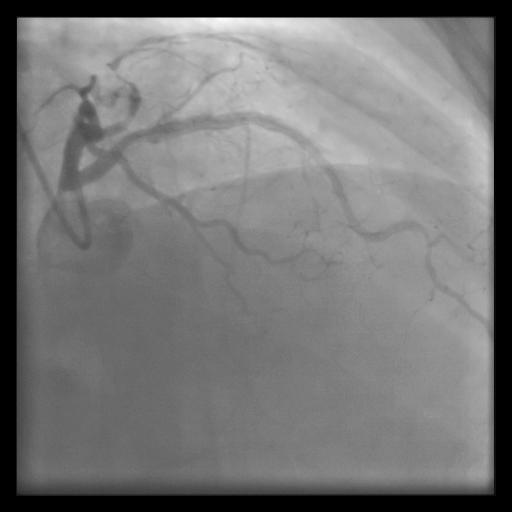Stenosis: (117, 127, 155, 148)
